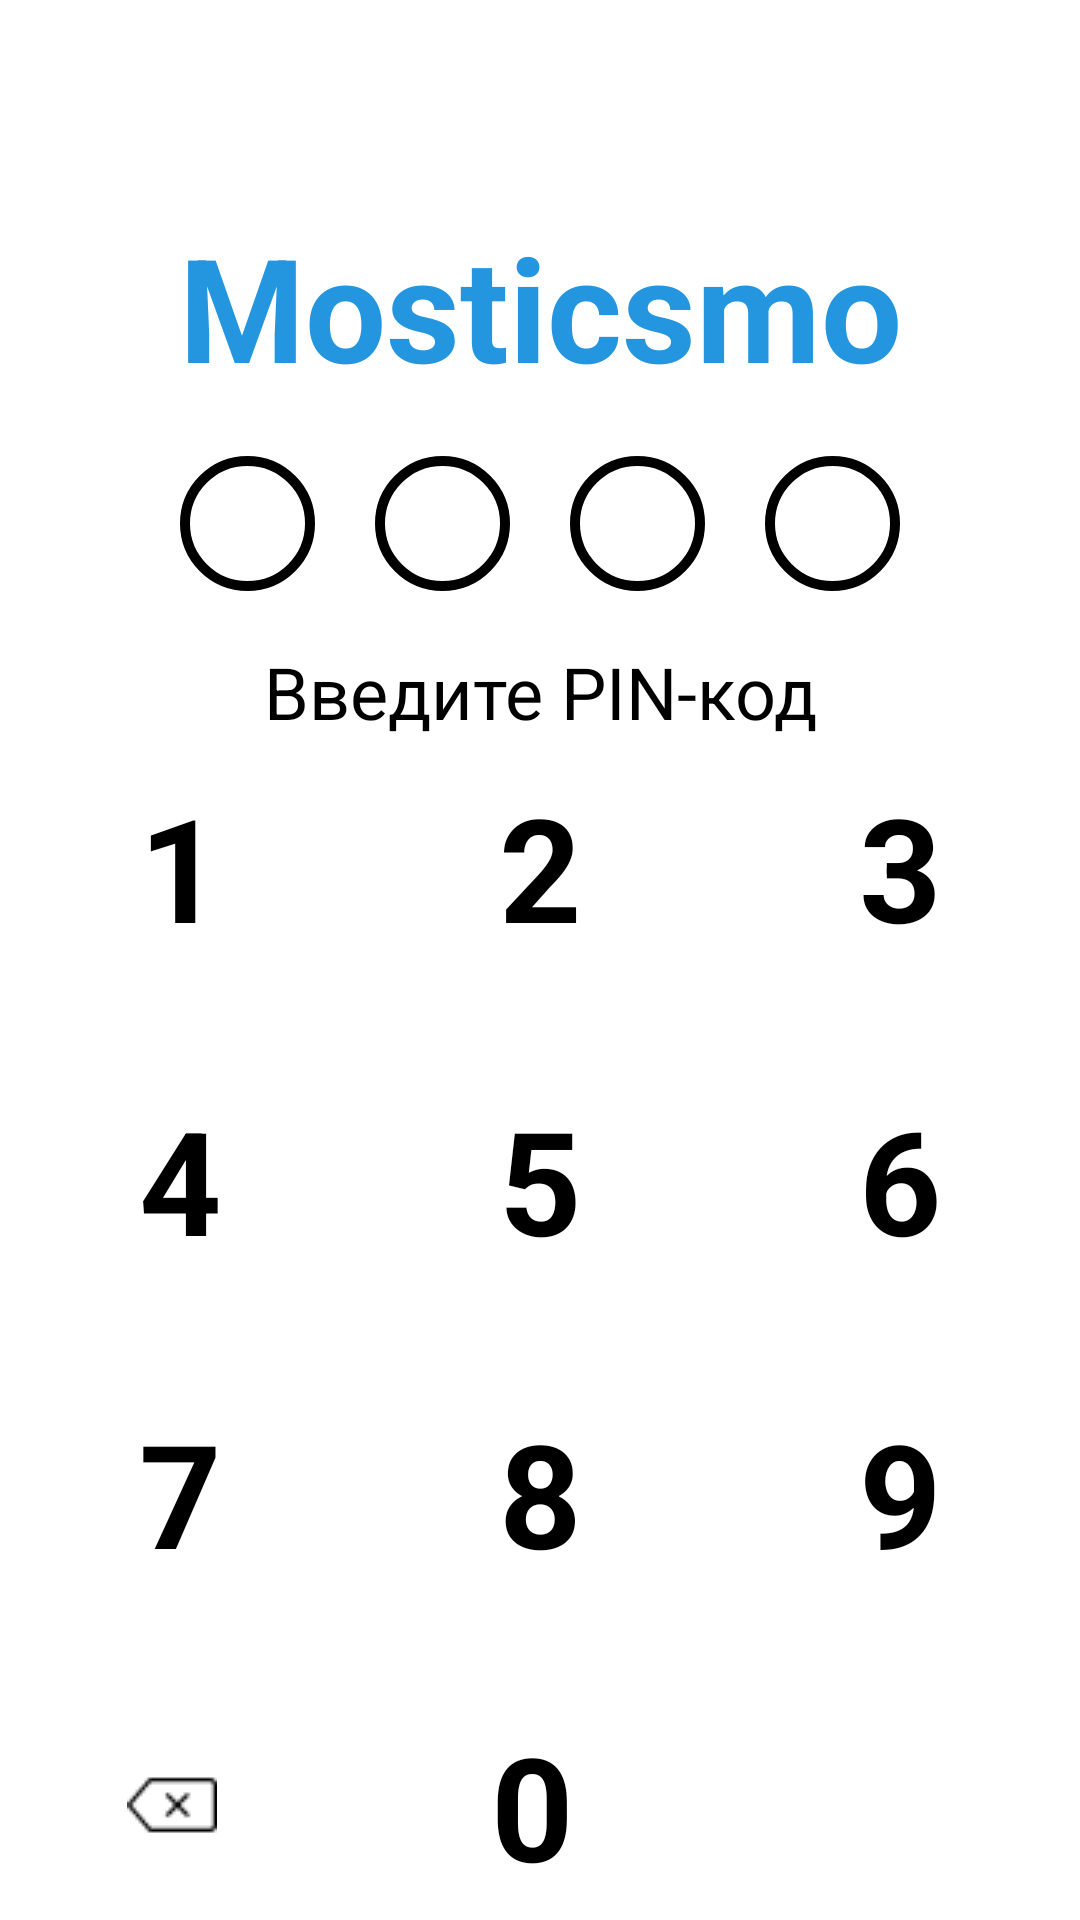

Icons on this 1080 x 1920 Android screen, each with the point to tap as (x,y):
clearsymbol: (172,1805)
roundbutton: (247,523), (442,523), (637,523), (832,523)
